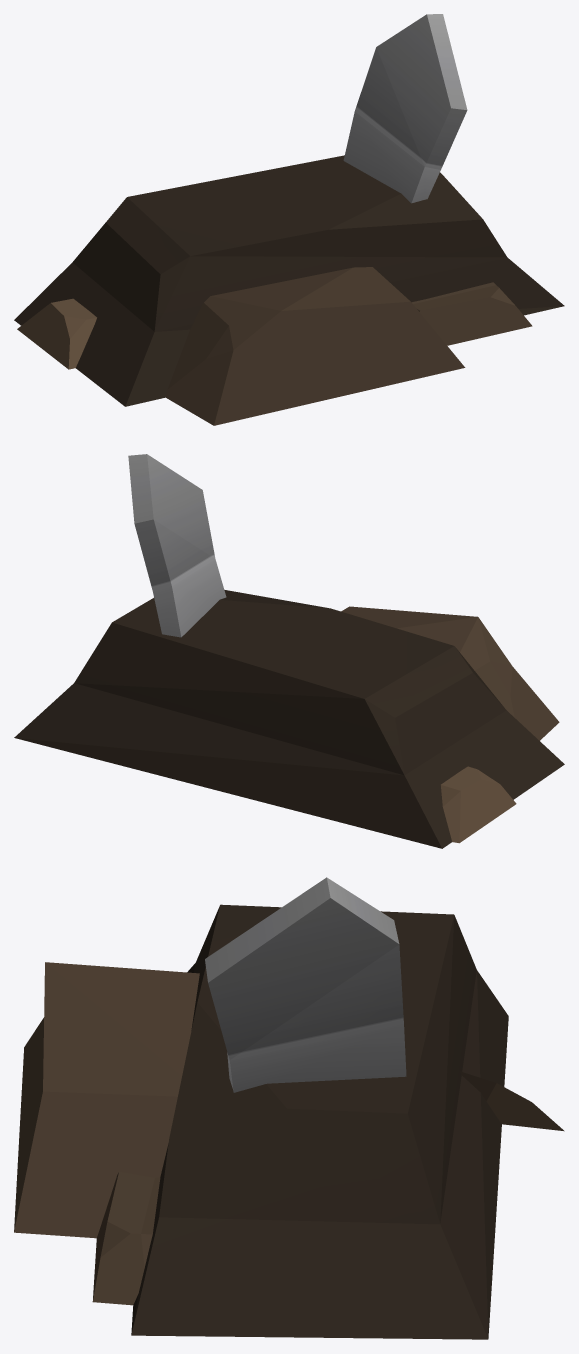
Rendered from ea_grave_sand_mini_02b_pre_lev1.glb.
3 renders of one model, top to bottom at view 1: azimuth 30°, elevation 25°; view 2: azimuth 150°, elevation 25°; view 3: azimuth 270°, elevation 25°, orthographic. The views are drawn at different scales.
Parts seen in each view (by area): view 1: ea_grave_sand_mini_02b_pre_lev1; view 2: ea_grave_sand_mini_02b_pre_lev1; view 3: ea_grave_sand_mini_02b_pre_lev1.
Boxes of the visible parts, box(x1,y1,x2,y2) form: ea_grave_sand_mini_02b_pre_lev1: box(14, 14, 564, 425); ea_grave_sand_mini_02b_pre_lev1: box(14, 454, 564, 848); ea_grave_sand_mini_02b_pre_lev1: box(14, 877, 564, 1339).
Bounding box in the file's own units: 2.29 × 1.3 × 1.61.
Materials: 1 (1 with a texture image).
